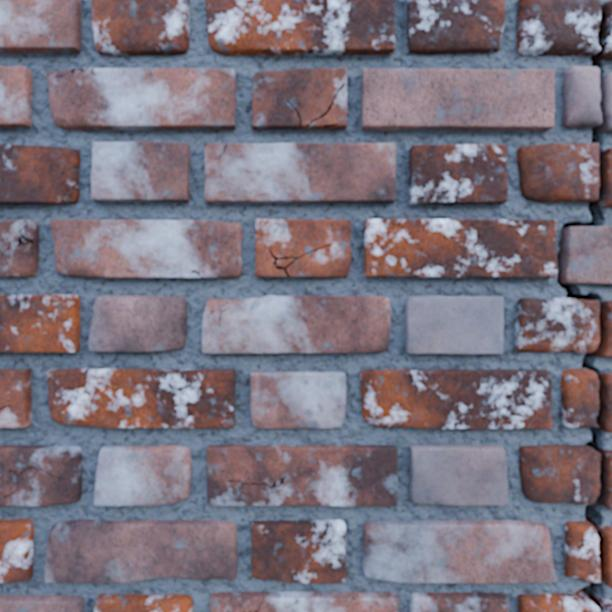brick: (45, 520, 236, 582), (363, 521, 554, 582), (362, 69, 553, 129), (207, 445, 396, 505), (47, 69, 235, 129), (205, 143, 394, 202), (365, 219, 556, 277), (360, 370, 551, 428), (47, 369, 234, 427), (51, 220, 241, 277), (202, 296, 389, 352), (206, 0, 393, 54), (252, 520, 345, 582), (410, 445, 506, 505), (92, 142, 188, 201), (410, 145, 507, 203), (95, 446, 190, 505), (253, 69, 346, 129), (406, 296, 502, 353), (256, 219, 350, 276), (89, 296, 186, 351), (92, 0, 188, 54), (251, 372, 344, 427), (408, 0, 504, 53), (0, 446, 81, 505), (0, 145, 79, 203), (0, 295, 79, 351), (0, 0, 80, 52), (210, 592, 397, 611), (563, 227, 611, 283), (0, 220, 38, 276), (0, 519, 33, 581), (0, 67, 30, 127), (0, 369, 30, 427), (411, 593, 507, 611), (95, 595, 191, 611), (0, 595, 82, 611)
broken_brick: (516, 142, 598, 203), (518, 444, 598, 505), (514, 296, 598, 353), (516, 0, 599, 56), (562, 65, 600, 127), (560, 367, 597, 428), (564, 520, 598, 583), (517, 593, 597, 611), (601, 300, 611, 358), (602, 525, 611, 588), (603, 373, 611, 433), (603, 147, 611, 207), (605, 71, 611, 132), (604, 30, 611, 61), (605, 475, 611, 510), (604, 598, 611, 611), (606, 449, 611, 467), (605, 0, 611, 11)
crack: (556, 1, 611, 611), (268, 242, 332, 277), (306, 81, 345, 127), (53, 66, 96, 77), (216, 143, 227, 179), (248, 600, 264, 611), (190, 269, 203, 278), (0, 404, 11, 410)
